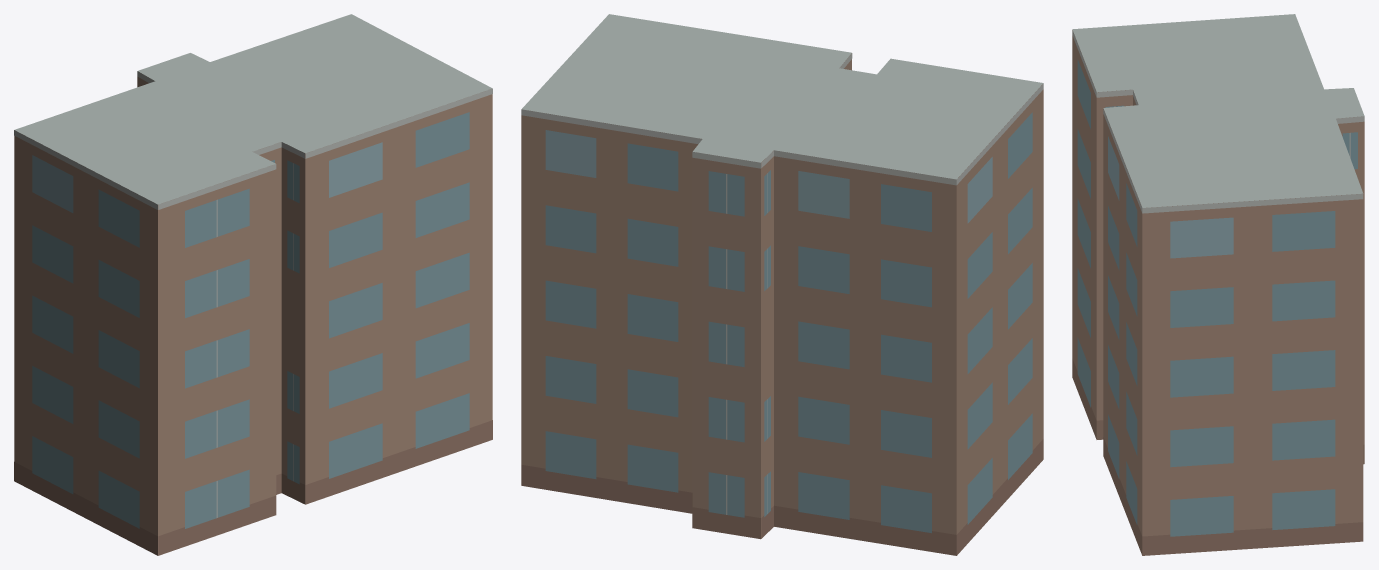
Rendered from survey-upis-32916464.glb.
3 renders of one model, left to right at view 1: azimuth 30°, elevation 25°; view 2: azimuth 150°, elevation 25°; view 3: azimuth 270°, elevation 25°, orthographic. The views are drawn at different scales.
Parts seen in each view (by area): view 1: survey-upis-32916464.tmp; view 2: survey-upis-32916464.tmp; view 3: survey-upis-32916464.tmp.
Boxes of the visible parts, x1,y1,x2,y2 form: survey-upis-32916464.tmp: [14, 14, 492, 555]; survey-upis-32916464.tmp: [521, 14, 1043, 555]; survey-upis-32916464.tmp: [1072, 14, 1364, 555].
Bounding box in the file's own units: 18.43 × 15.4 × 11.74.
